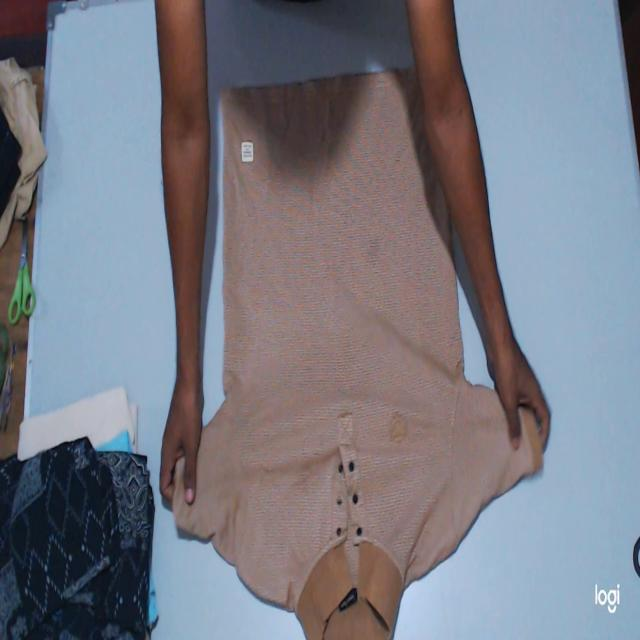new-garment: (173, 71, 542, 639)
